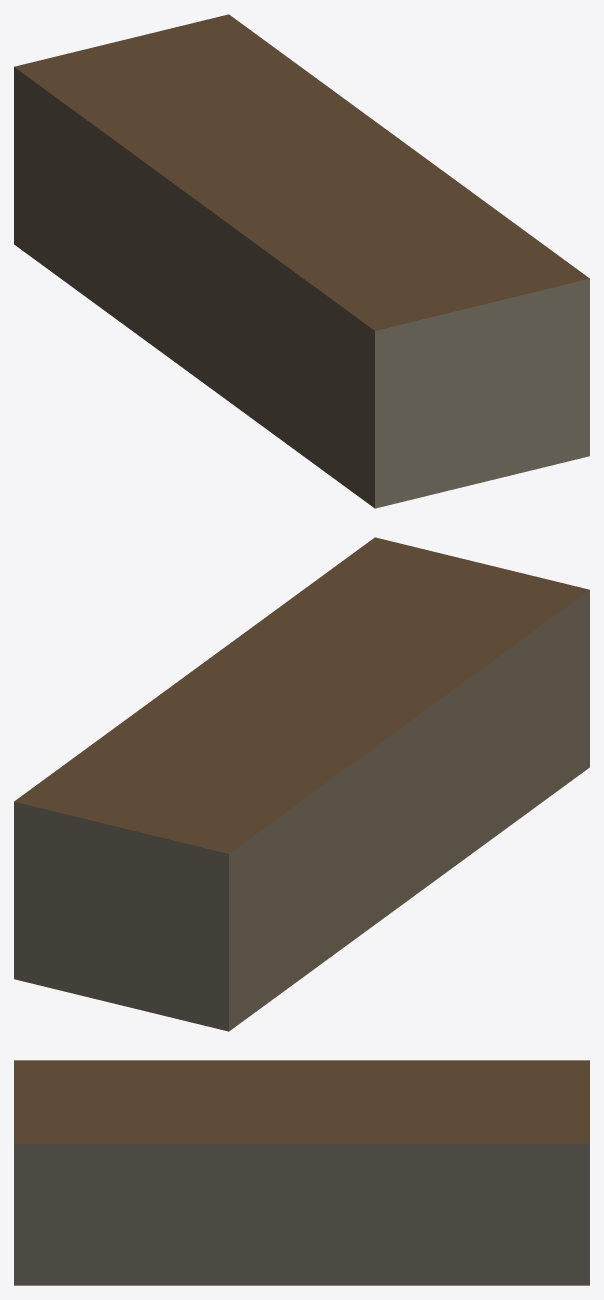
File: fort-hall.far-facades-v2.lod2.glb
3 views of the same model, one above another, from view 1: azimuth 30°, elevation 25°; view 2: azimuth 150°, elevation 25°; view 3: azimuth 270°, elevation 25° (orthographic). The views are drawn at different scales.
Parts seen in each view (by area): view 1: fort-hall; view 2: fort-hall; view 3: fort-hall.
Part boxes in pixels (bbox=[...]): fort-hall: bbox=[14, 14, 589, 508]; fort-hall: bbox=[14, 537, 589, 1031]; fort-hall: bbox=[14, 1060, 589, 1285].
Size of the model in its own units: 16.5 by 13.03 by 48.
